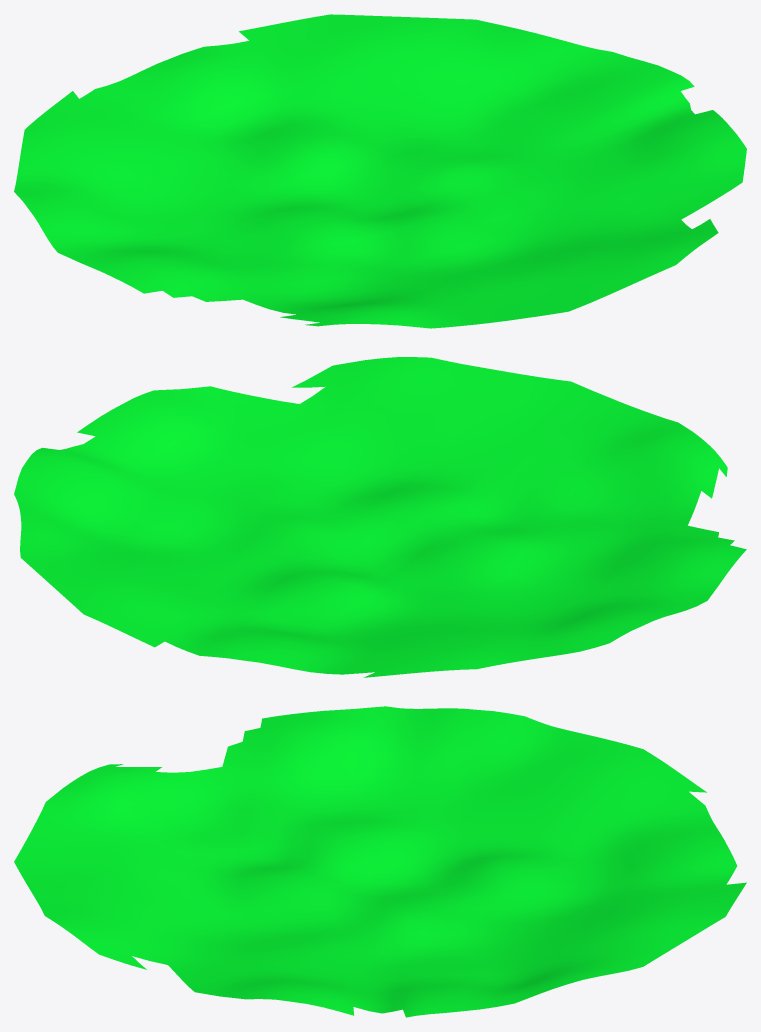
File: PlateDirt_Model.FBX
3 renders of one model, top to bottom at view 1: azimuth 30°, elevation 25°; view 2: azimuth 150°, elevation 25°; view 3: azimuth 270°, elevation 25°, orthographic. The views are drawn at different scales.
Parts seen in each view (by area): view 1: PlateDirt_Model; view 2: PlateDirt_Model; view 3: PlateDirt_Model.
Boxes of the visible parts, x1,y1,x2,y2 form: PlateDirt_Model: (14, 14, 746, 328); PlateDirt_Model: (14, 357, 746, 677); PlateDirt_Model: (14, 706, 746, 1017).
Bounding box in the file's own units: 28.06 × 1.58 × 27.85.
